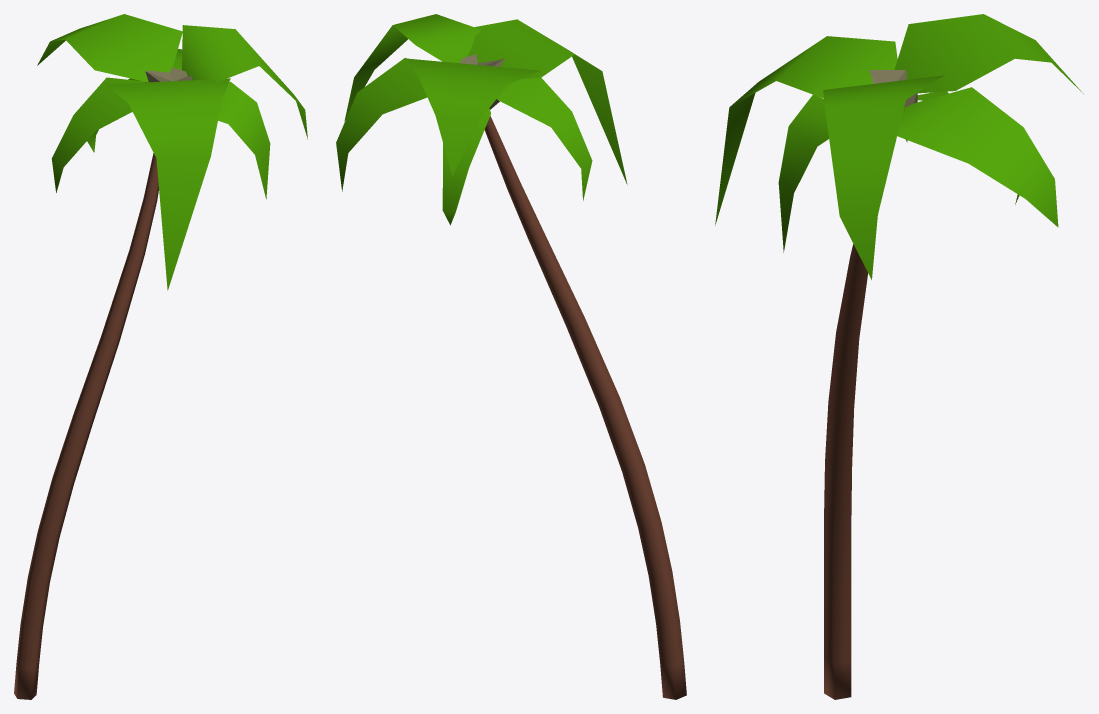
Rendered from palmtree.fbx.
The picture shows the model from 3 angles, left to right: view 1: azimuth 30°, elevation 25°; view 2: azimuth 150°, elevation 25°; view 3: azimuth 270°, elevation 25°; orthographic projection. The views are drawn at different scales.
Parts seen in each view (by area): view 1: Cylinder, Plane.004, Plane.003, Plane.001, Plane.002, Plane.005, Icosphere; view 2: Cylinder, Plane.003, Plane.004, Plane.001, Plane, Plane.002, Plane.006; view 3: Cylinder, Plane.001, Plane, Plane.003, Plane.004, Plane.005.
Boxes of the visible parts, left/top/right/bottom form: Cylinder: left=14, top=153, right=158, bottom=699; Plane.004: left=105, top=78, right=230, bottom=290; Plane.003: left=37, top=14, right=182, bottom=82; Plane.001: left=182, top=25, right=307, bottom=139; Plane.002: left=51, top=77, right=145, bottom=192; Plane.005: left=218, top=81, right=270, bottom=199; Icosphere: left=145, top=67, right=192, bottom=82; Cylinder: left=484, top=116, right=686, bottom=699; Plane.003: left=407, top=58, right=539, bottom=175; Plane.004: left=467, top=19, right=627, bottom=184; Plane.001: left=344, top=14, right=480, bottom=121; Plane: left=336, top=58, right=427, bottom=191; Plane.002: left=497, top=77, right=592, bottom=200; Plane.006: left=442, top=108, right=490, bottom=225; Cylinder: left=824, top=244, right=867, bottom=699; Plane.001: left=823, top=75, right=944, bottom=279; Plane: left=897, top=87, right=1058, bottom=227; Plane.003: left=894, top=14, right=1083, bottom=93; Plane.004: left=715, top=36, right=897, bottom=225; Plane.005: left=778, top=94, right=828, bottom=252.
Bounding box in the file's own units: 199 × 368 × 167.
